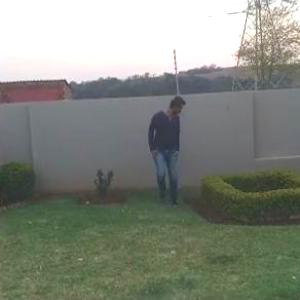follow: (145, 86, 184, 216)
